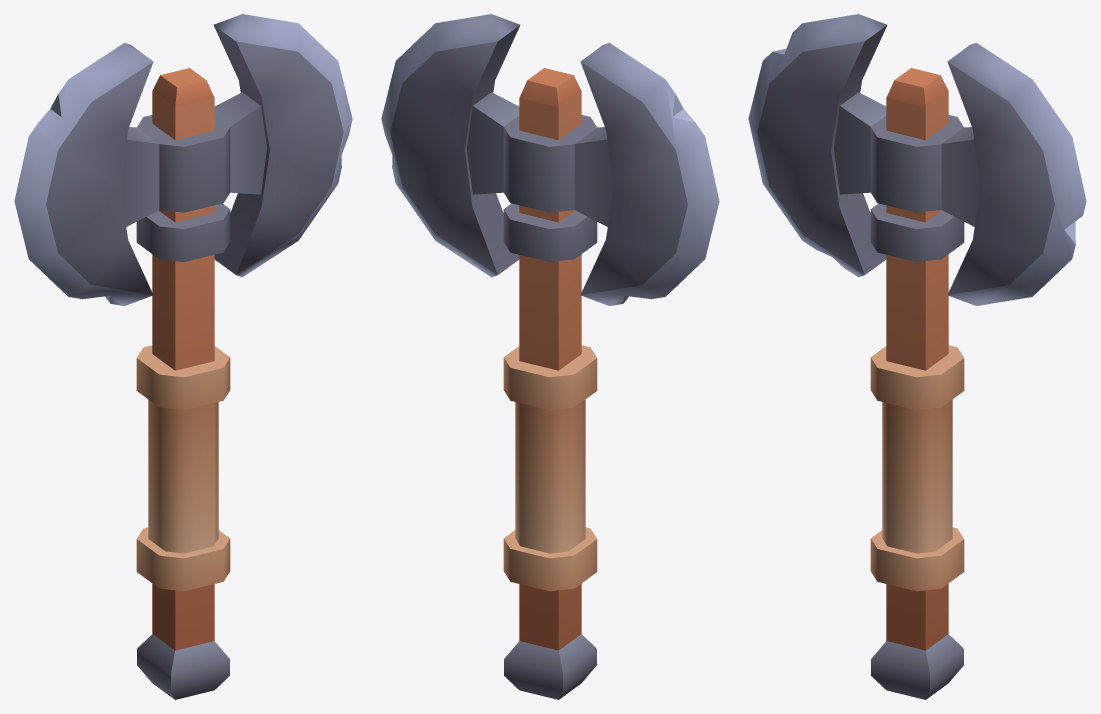
The model's file is axe-double.fbx.
The picture shows the model from 3 angles, left to right: view 1: azimuth 30°, elevation 25°; view 2: azimuth 150°, elevation 25°; view 3: azimuth 330°, elevation 25°; orthographic projection.
Parts seen in each view (by area): view 1: axe-double; view 2: axe-double; view 3: axe-double.
Part boxes in pixels (x1=…): axe-double: x1=14, y1=14, x2=352, y2=699; axe-double: x1=381, y1=14, x2=719, y2=699; axe-double: x1=748, y1=14, x2=1086, y2=699.
Bounding box in the file's own units: 215 × 400 × 45.
1 material, 1 textured.
